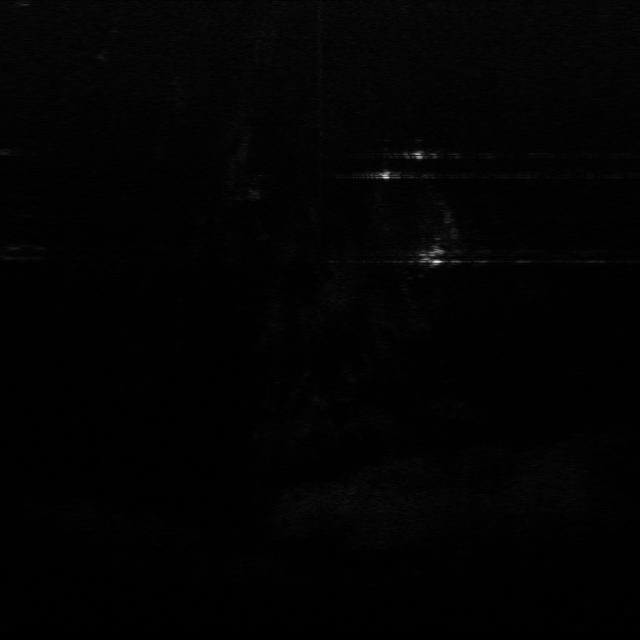rov: (414, 245, 452, 267)
